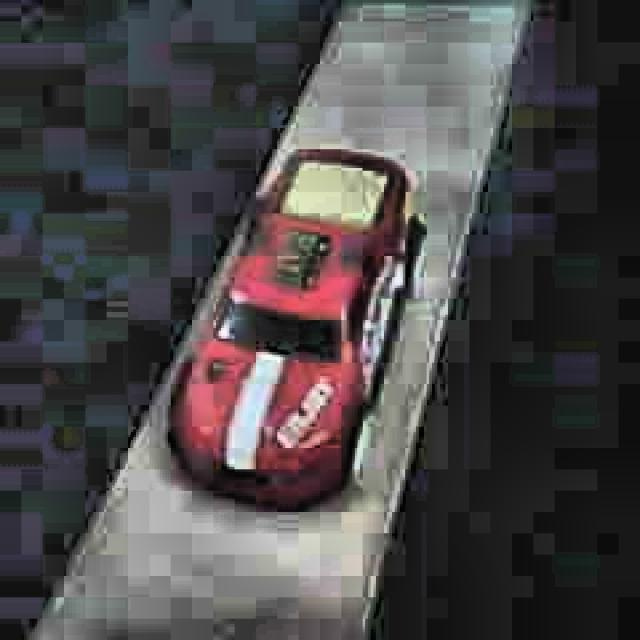car: (166, 145, 427, 520)
